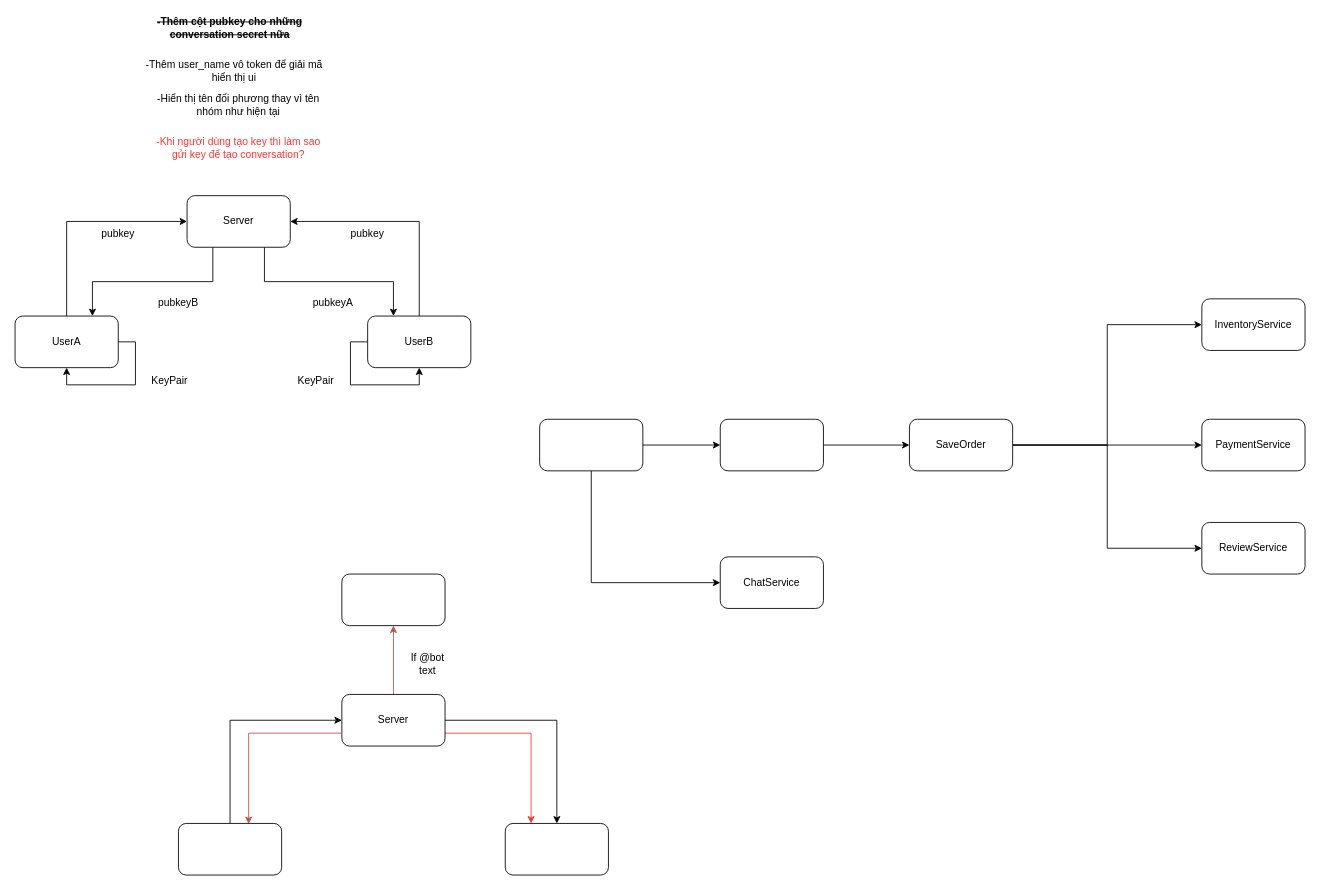
The diagram is 1320 pixels wide and 890 high, and some of its shapes have lost their labels. The shapes that lost their labels are listed below. From the top down, each one's centre as x and y in pixels, then its label:
At point (591, 444): "Auth".
At point (771, 444): "CartService".
At point (393, 599): "Chat-Bot".
At point (230, 849): "User A".
At point (556, 849): "User B".
